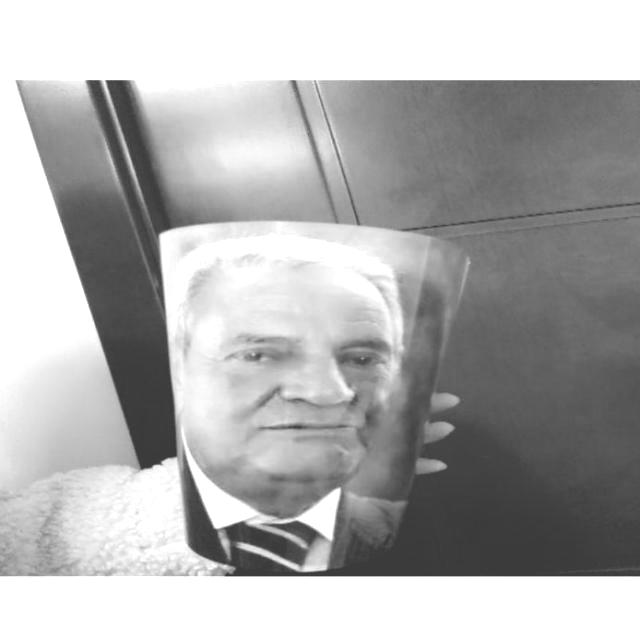fake: (157, 215, 473, 570)
